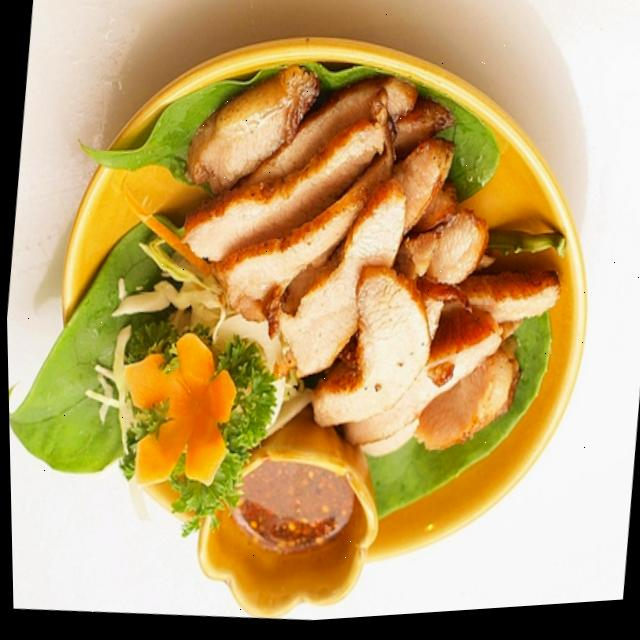猪肉菜式: (6, 0, 617, 640)
